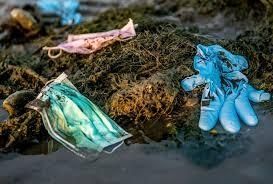Glove: (181, 44, 269, 132), (37, 0, 82, 25)
Mask: (27, 73, 130, 157), (43, 19, 135, 57)
